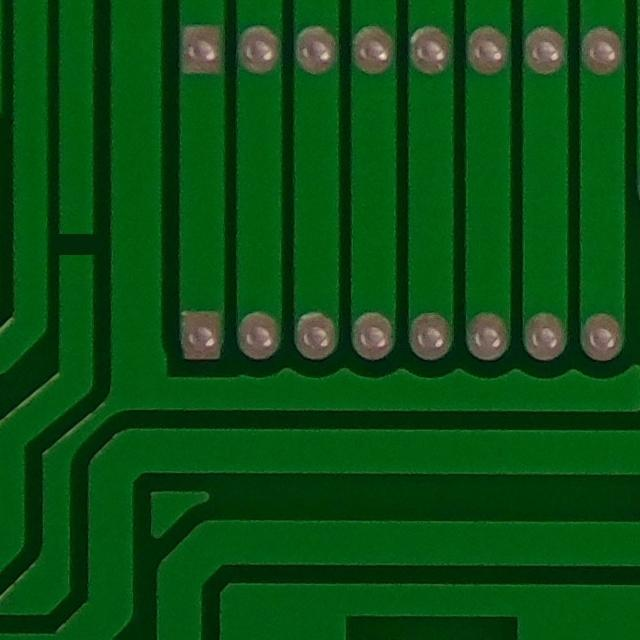open_circuit: (51, 222, 106, 269)
